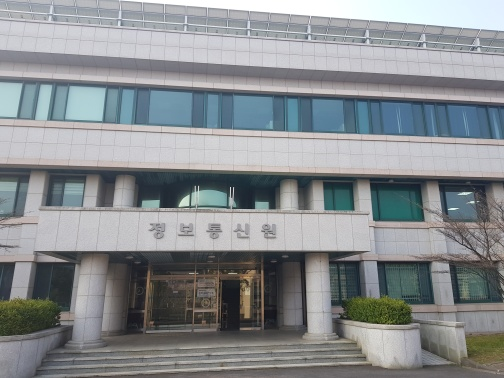Information Telecommunication Center: (24, 11, 375, 346), (133, 261, 287, 337), (146, 213, 292, 252)
